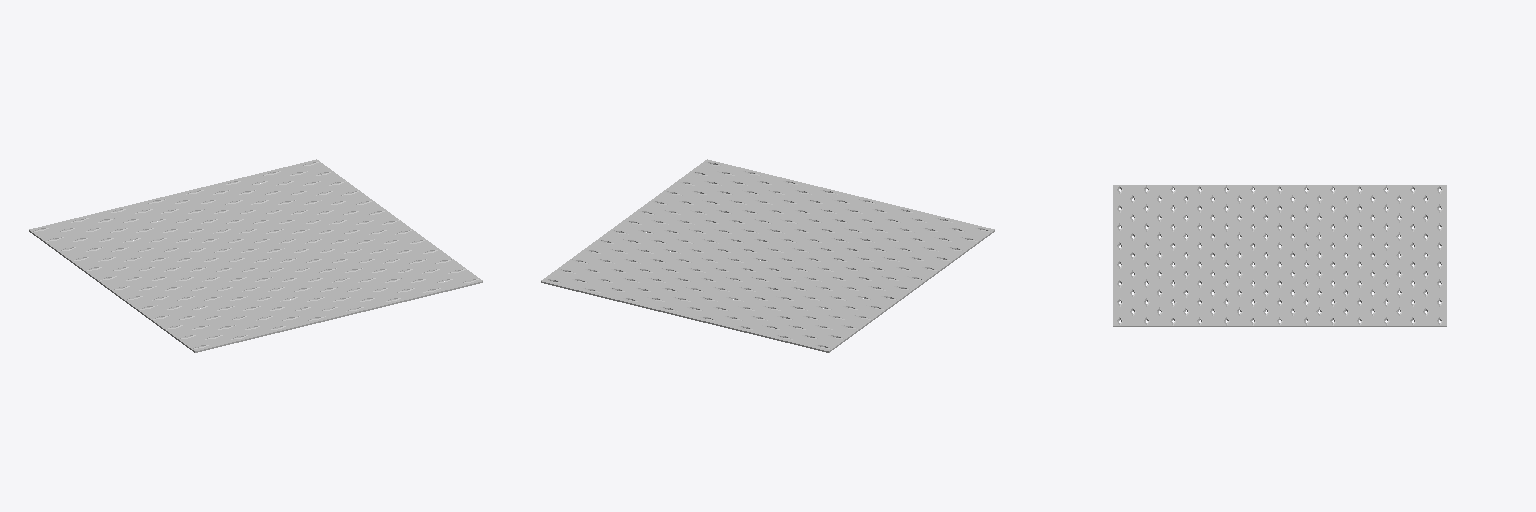
The model's file is Bevel_Floor.obj.
The picture shows the model from 3 angles: view 1: azimuth 30°, elevation 25°; view 2: azimuth 150°, elevation 25°; view 3: azimuth 270°, elevation 25°; orthographic projection.
Parts seen in each view (by area): view 1: objMesh; view 2: objMesh; view 3: objMesh.
Part boxes in pixels (bbox=[...]): objMesh: bbox=[29, 159, 482, 352]; objMesh: bbox=[541, 159, 994, 352]; objMesh: bbox=[1113, 185, 1446, 326].
Size of the model in its own units: 2 by 0.0128 by 2.